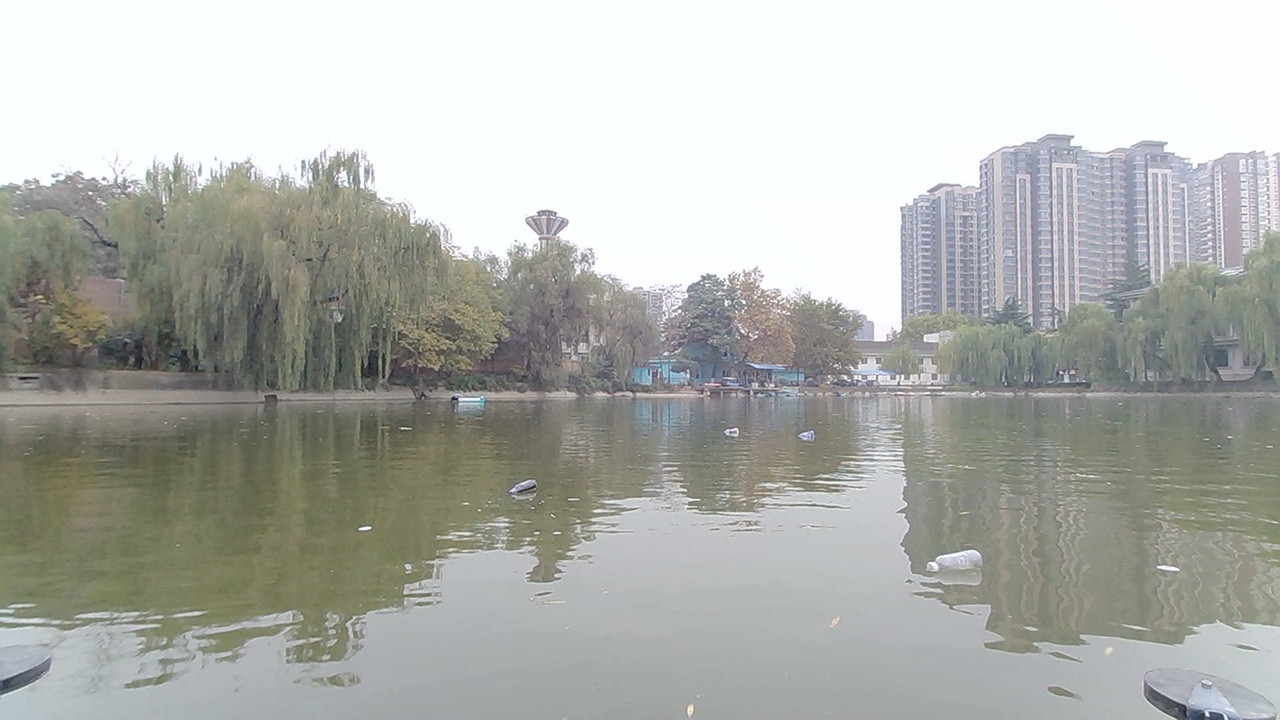bottle: (911, 538, 989, 593), (509, 480, 539, 502), (792, 428, 825, 445), (721, 419, 743, 438)
